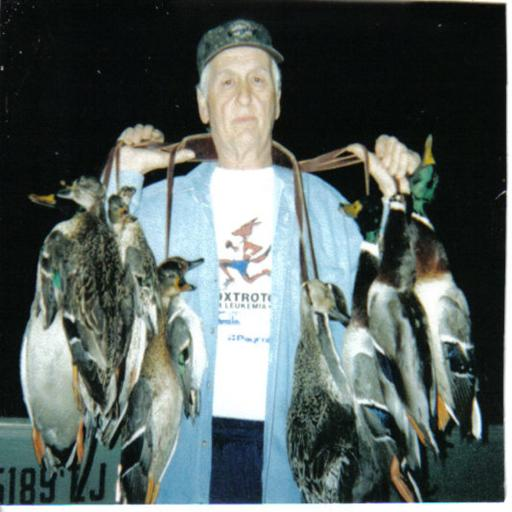Person: (64, 29, 500, 499)
no_gloves: (84, 126, 206, 228), (326, 145, 433, 223)
no_goggle: (201, 83, 277, 110)
no_helmet: (180, 35, 294, 122)
none: (71, 139, 395, 493)
